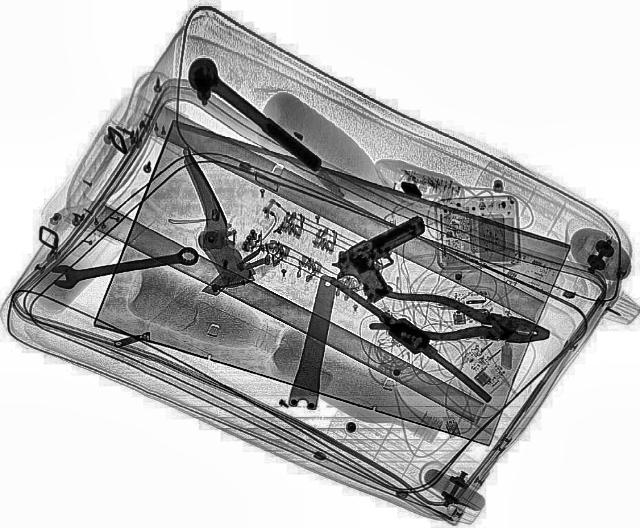Gun: (320, 212, 458, 308)
Pliers: (366, 286, 554, 354)
Wrench: (47, 244, 203, 291)
